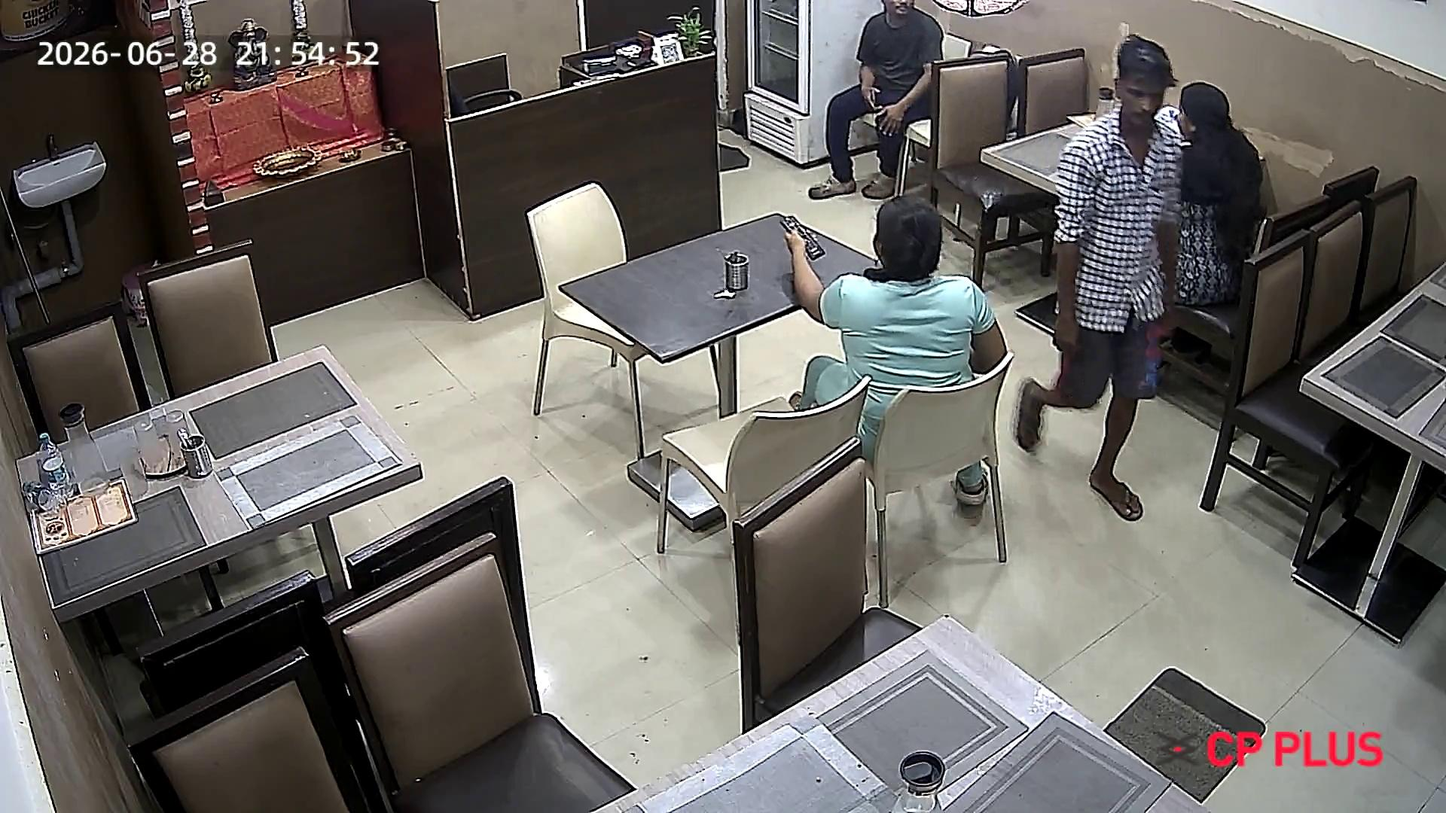clean: (681, 635, 1188, 813)
dirty: (14, 330, 425, 610)
occupied: (562, 210, 995, 367)
